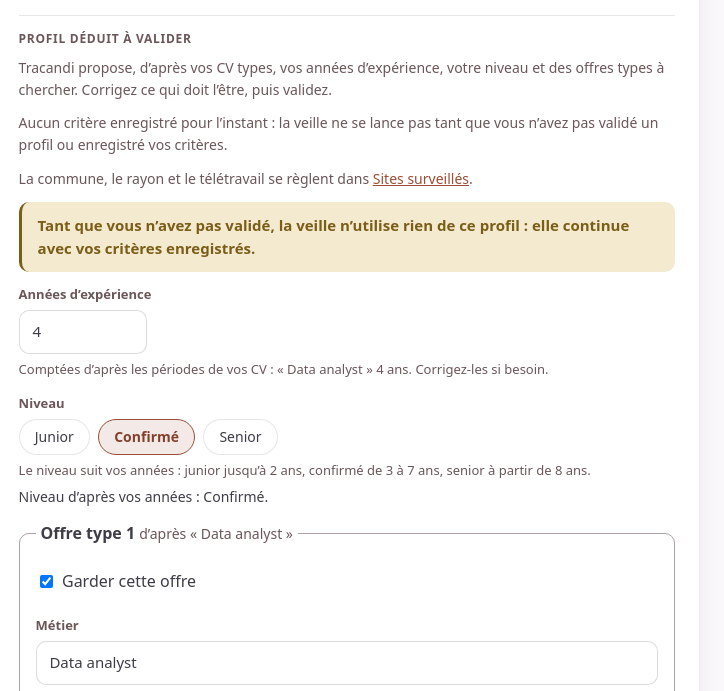
Test: WatchSettings — the deduced profile to validate (EF-VEI-43 to EF-VEI-47) › [EF-VEI-47] [RG-28] gives the level of the years as they are corrected, live: 2 junior, 3 and 7 confirmé, 8 senior
(page scrolled)
Replace the text in the number field labelled "Années d’expérience" with "2": {"x": 83, "y": 332} [19,310,147,354]
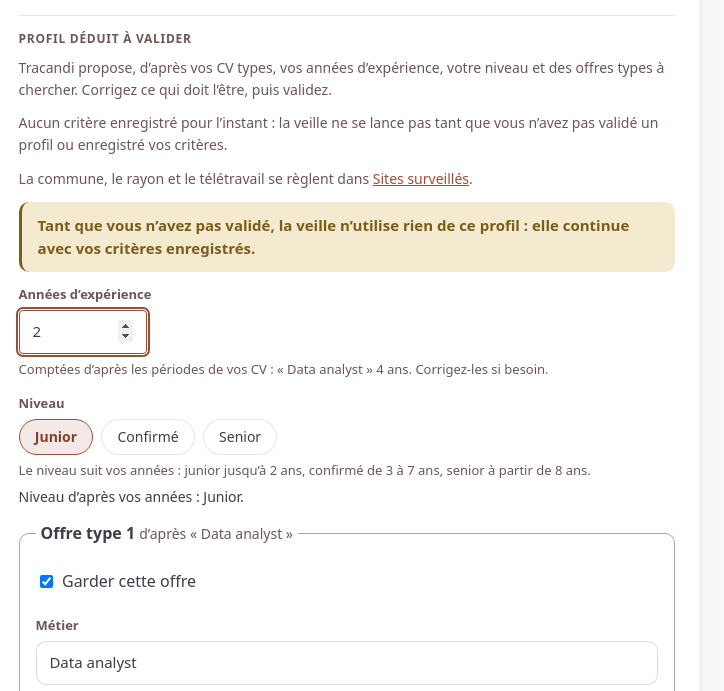
expect the radio button labelled "Junior" is checked: met, box [19,419,93,455]
Replace the text in the number field labelled "Années d’expérience" with "3": {"x": 83, "y": 332} [19,310,147,354]
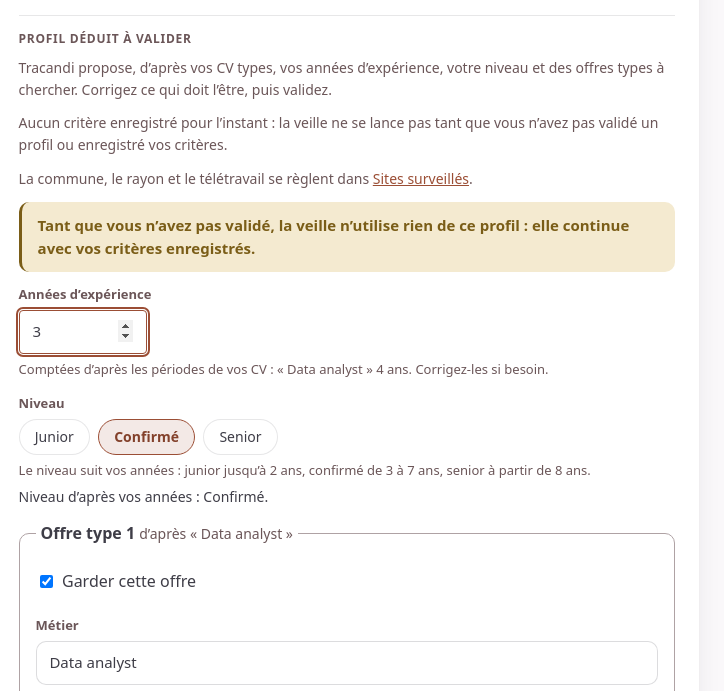
expect the radio button labelled "Confirmé" is checked: met, box [98,419,195,455]
Replace the text in the number field labelled "Années d’expérience" with "7": {"x": 83, "y": 332} [19,310,147,354]
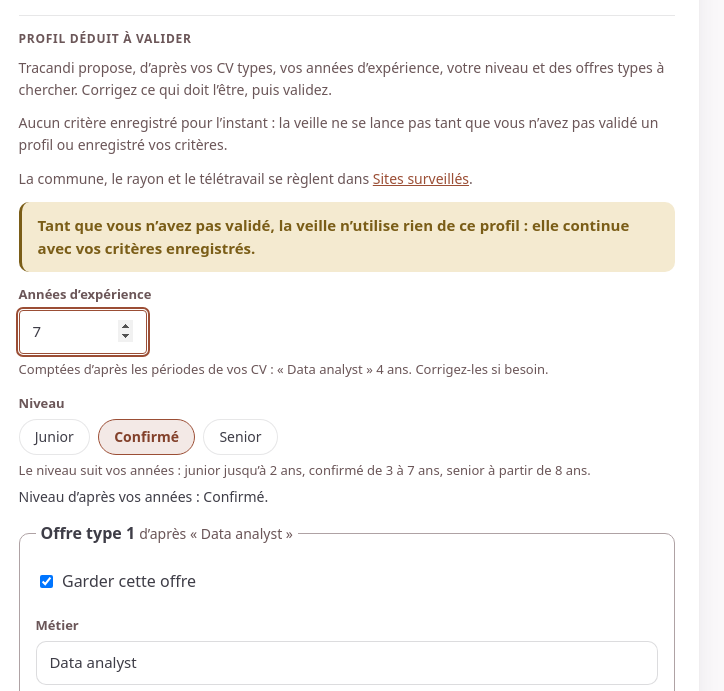
expect the radio button labelled "Confirmé" is checked: met, box [98,419,195,455]
Replace the text in the number field labelled "Années d’expérience" with "8": {"x": 83, "y": 332} [19,310,147,354]
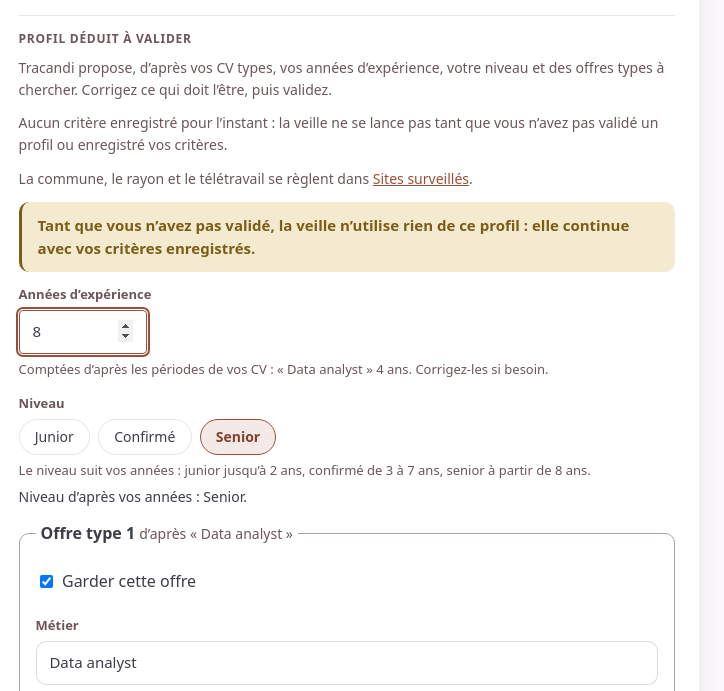
expect the radio button labelled "Senior" is checked: met, box [200,419,276,455]
